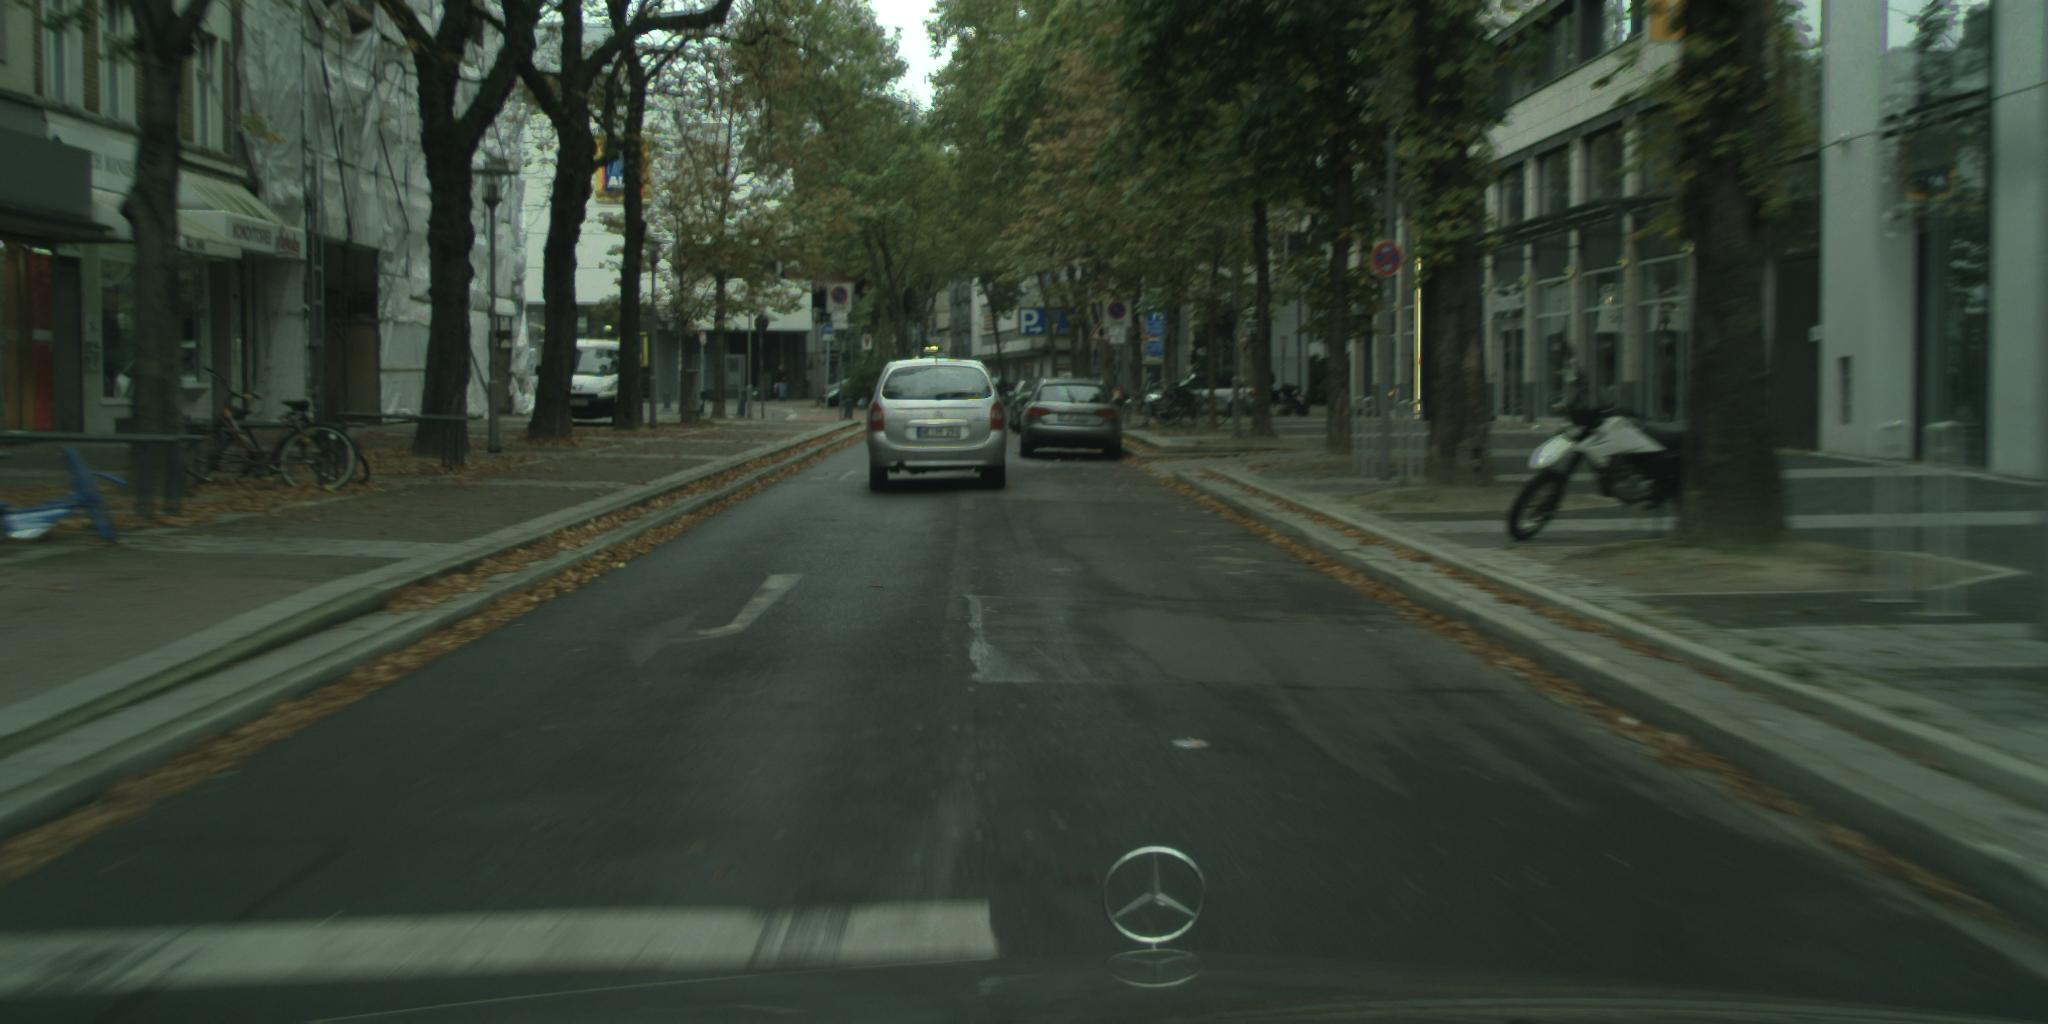car: (858, 359, 1012, 492), (1016, 379, 1123, 462), (563, 338, 630, 421), (1142, 376, 1259, 417), (822, 377, 859, 409)
motorcycle: (1505, 333, 1714, 546)
